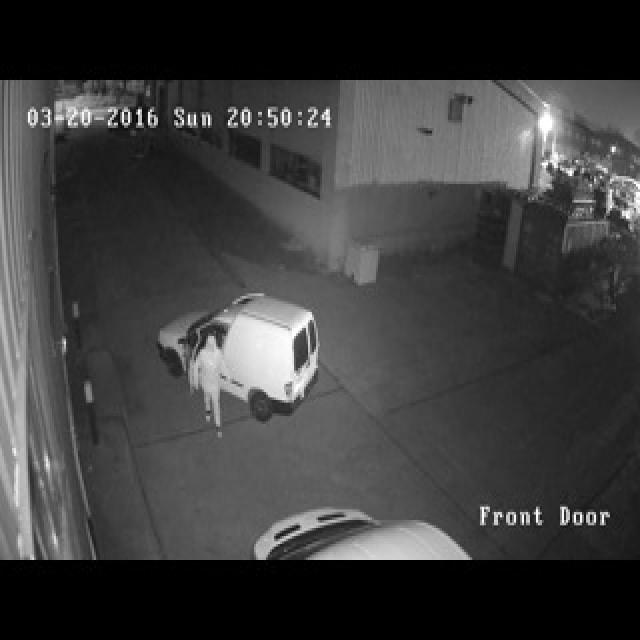thief: (189, 333, 232, 445)
